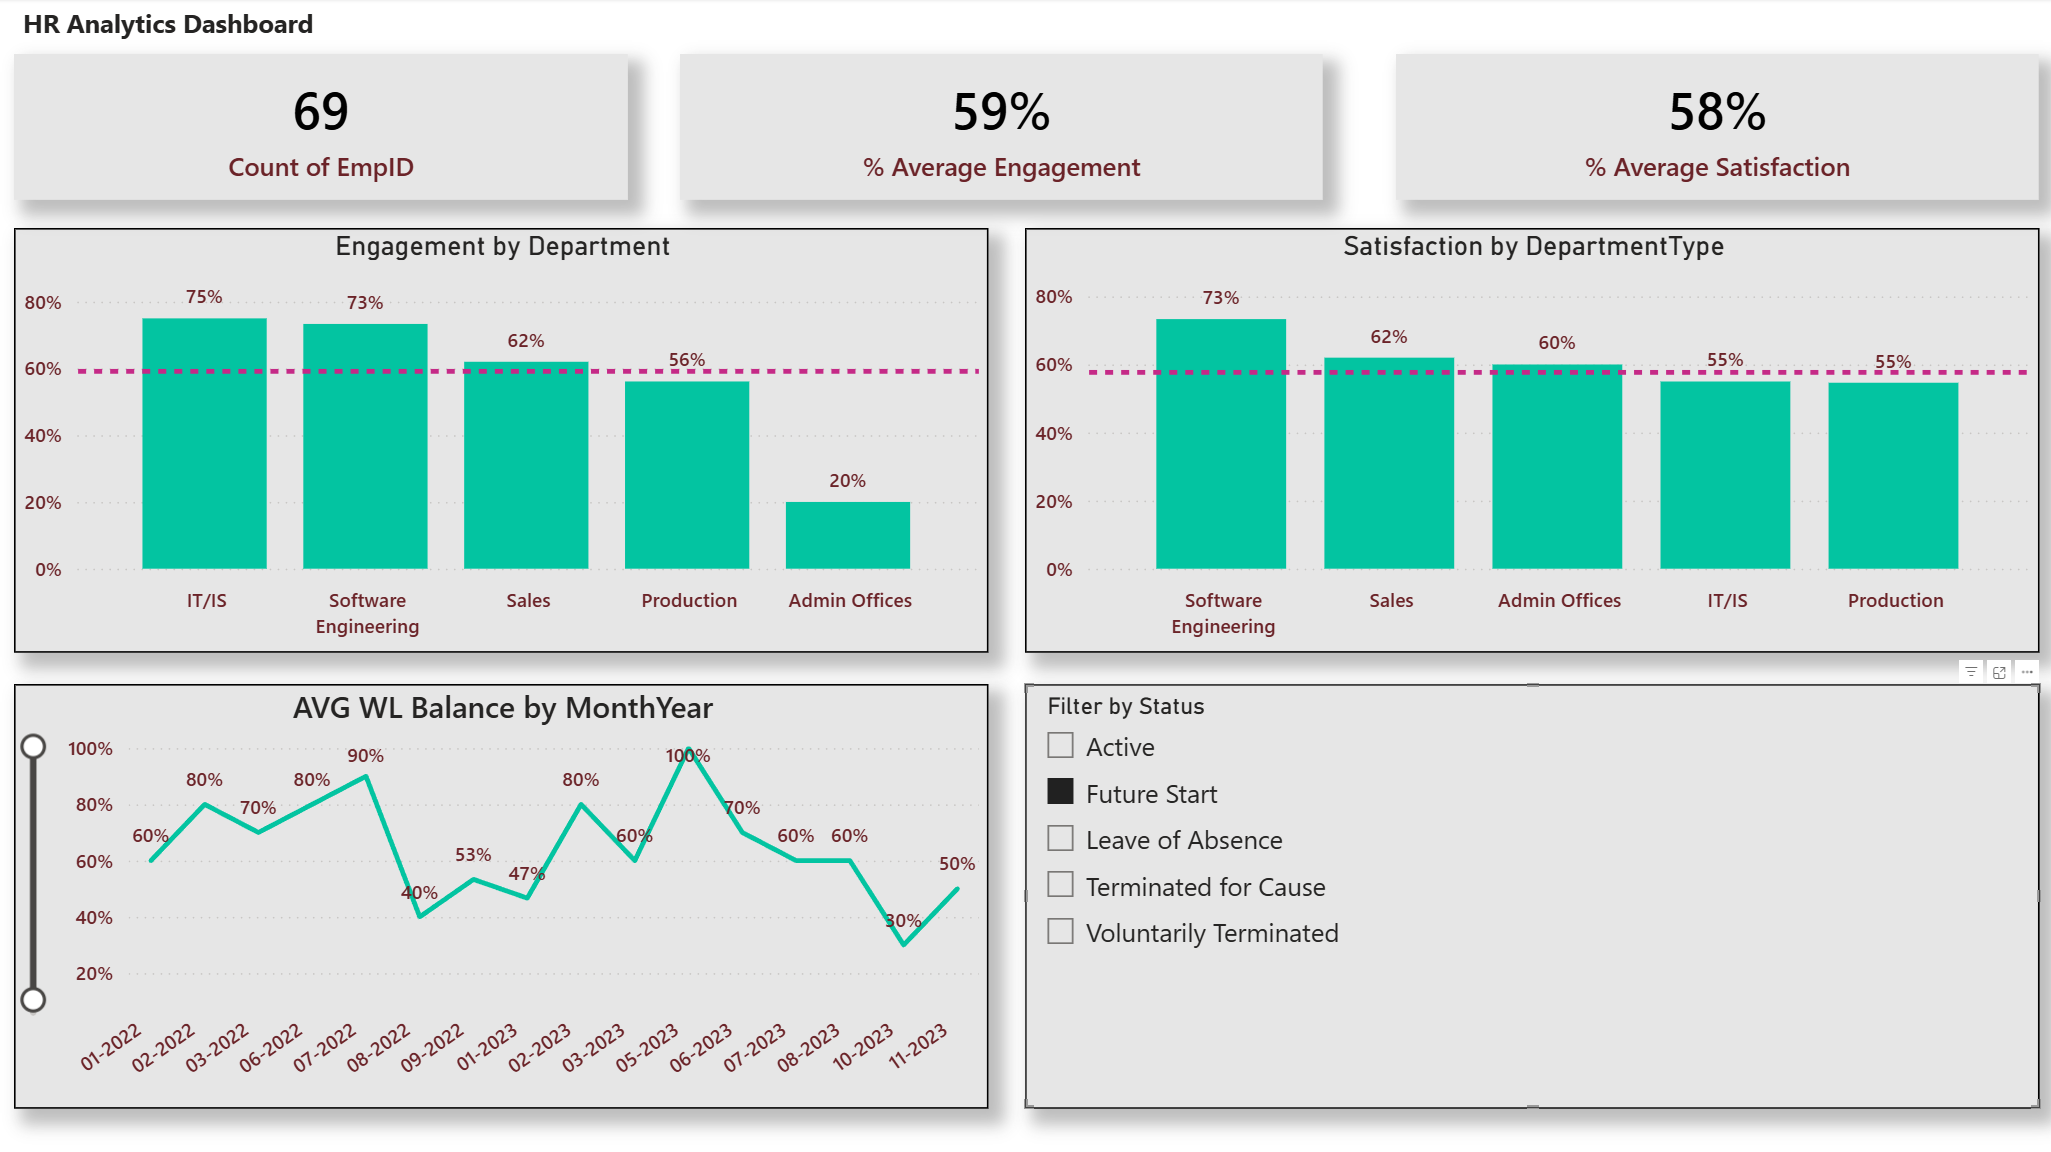

What the dashboard file says about the page in this screenshot:
{"tool":"powerbi","page":{"name":"Dashboard","canvas":[1280,720],"ordinal":5},"visuals":[{"type":"textbox","box":[9.8,0,280.1,70],"z":0},{"type":"card","fields":{"Values":["Count(employee_data.EmpID)"]},"box":[9.5,34.7,383.1,91.1],"z":1000,"group":"g1"},{"type":"columnChart","title":"Engagement by Department","fields":{"Category":["employee_data.DepartmentType"],"Y":["employee_engagement_survey_data.% Average Engagement"]},"box":[9.5,143.5,608,264.6],"z":1000},{"type":"card","fields":{"Values":["employee_engagement_survey_data.% Average Engagement"]},"box":[425,34.7,401.4,91.1],"z":2000,"group":"g1"},{"type":"columnChart","title":"Satisfaction by DepartmentType","fields":{"Category":["employee_data.DepartmentType"],"Y":["employee_engagement_survey_data.% Average Satisfaction"]},"box":[640,143.5,633.2,264.6],"z":2000},{"type":"card","fields":{"Values":["employee_engagement_survey_data.% Average Satisfaction"]},"box":[871.7,34.7,401.4,91.1],"z":3000,"group":"g1"},{"type":"lineChart","title":"AVG WL Balance by MonthYear","fields":{"Y":["employee_engagement_survey_data.% Average WL Balance"],"Category":["Calendar.MonthYear"]},"box":[9.5,427.8,608,264.6],"z":3000},{"type":"group","id":"g1","title":"Group 1","box":[9.5,34.7,1263.7,91.1],"z":4000},{"type":"slicer","fields":{"Values":["employee_data.EmployeeStatus"]},"box":[640,427.8,633.2,264.6],"z":4001}]}

Visuals, with their boxes in screenshot pixels (x1, y1, x2, y2), scaled from the page's 1280x720 canvas onto the 2051x1152 screenshot:
textbox: 16/0/465/112
card - Count(employee_data.EmpID): 15/56/629/201
"Engagement by Department" columnChart: 15/230/989/653
card - employee_engagement_survey_data.% Average Engagement: 681/56/1324/201
"Satisfaction by DepartmentType" columnChart: 1026/230/2040/653
card - employee_engagement_survey_data.% Average Satisfaction: 1397/56/2040/201
"AVG WL Balance by MonthYear" lineChart: 15/684/989/1108
"Group 1" group: 15/56/2040/201
slicer - employee_data.EmployeeStatus: 1026/684/2040/1108
